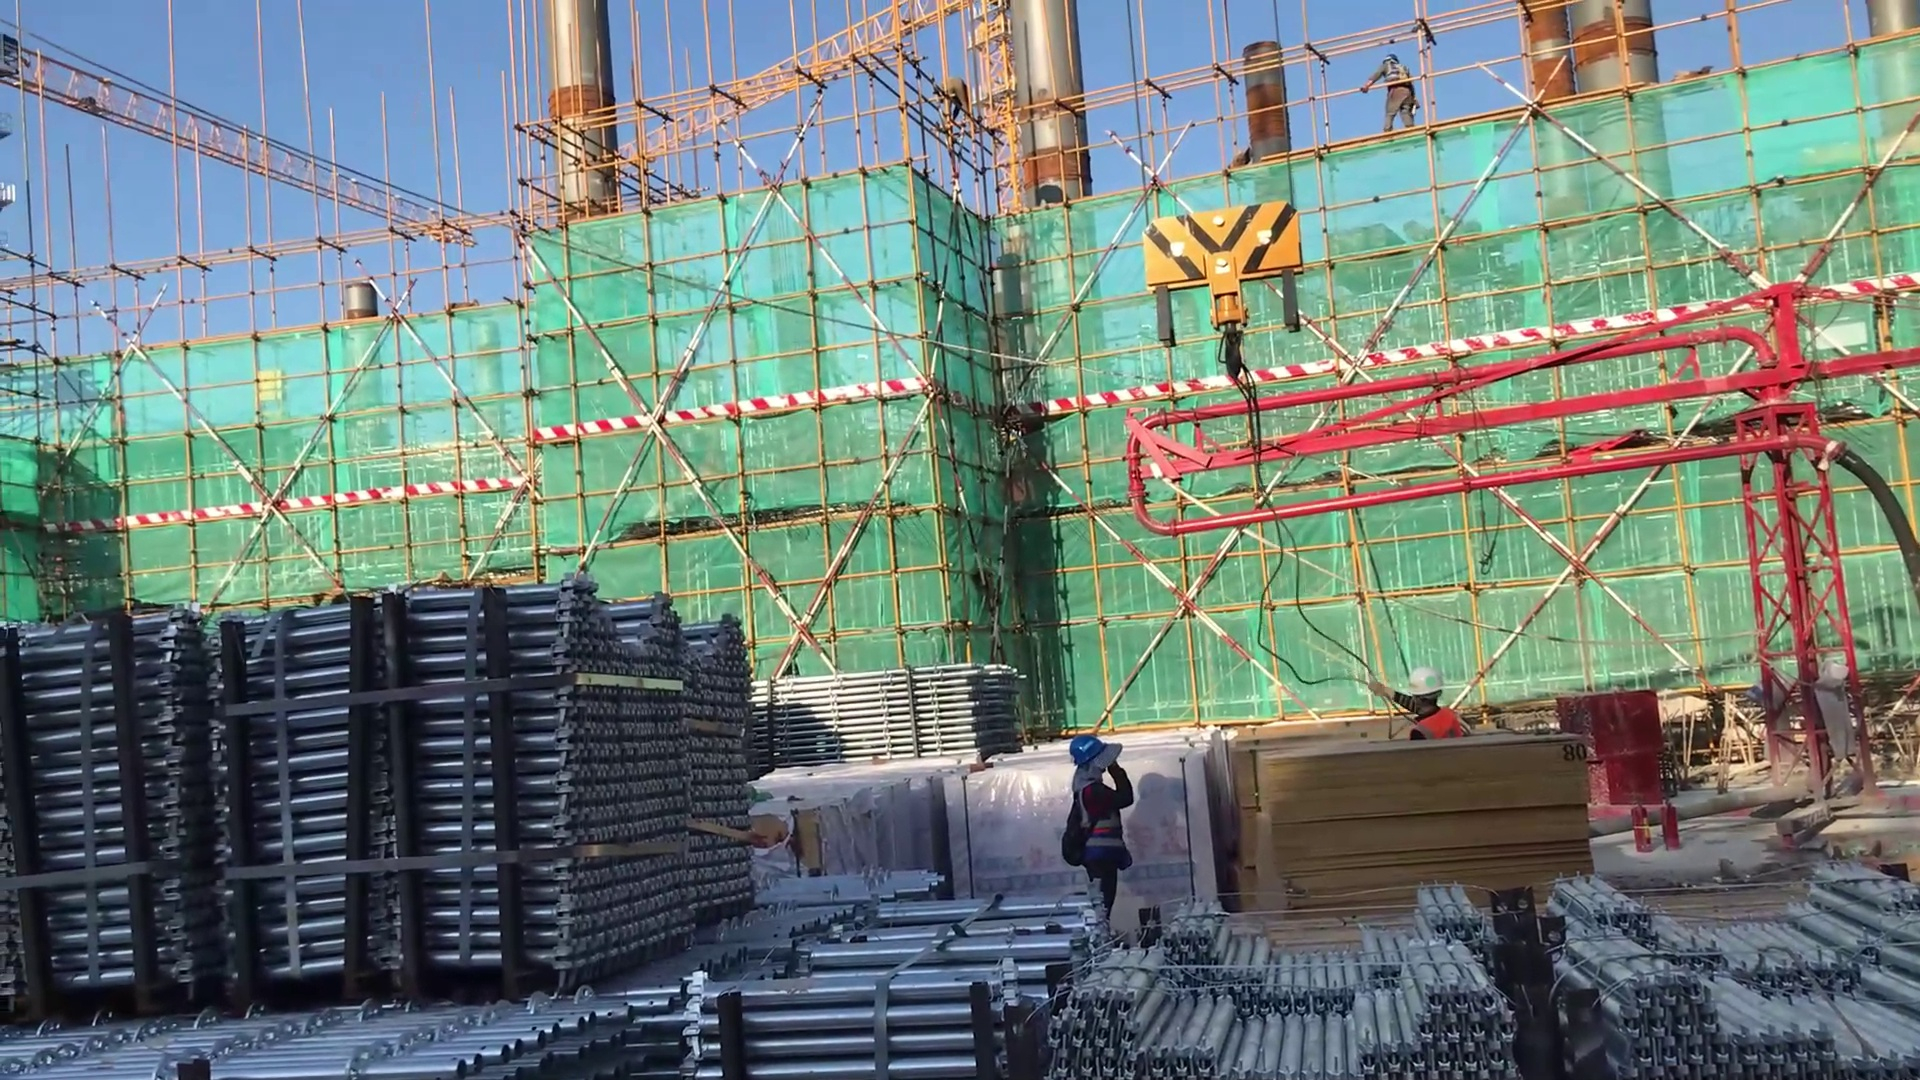board: (1230, 736, 1595, 905)
helmet: (1068, 734, 1109, 767), (1410, 666, 1446, 698), (1380, 53, 1406, 66)
hook: (1120, 199, 1338, 384)
person: (1056, 728, 1136, 930), (1363, 663, 1471, 756), (1359, 44, 1433, 141)
scaffold: (15, 564, 750, 1023), (1034, 887, 1519, 1080), (715, 864, 1106, 1078), (1527, 870, 1920, 1080), (1, 969, 637, 1078), (747, 664, 1023, 778)
vest: (1070, 772, 1134, 880), (1403, 704, 1473, 753), (1383, 59, 1416, 88)
